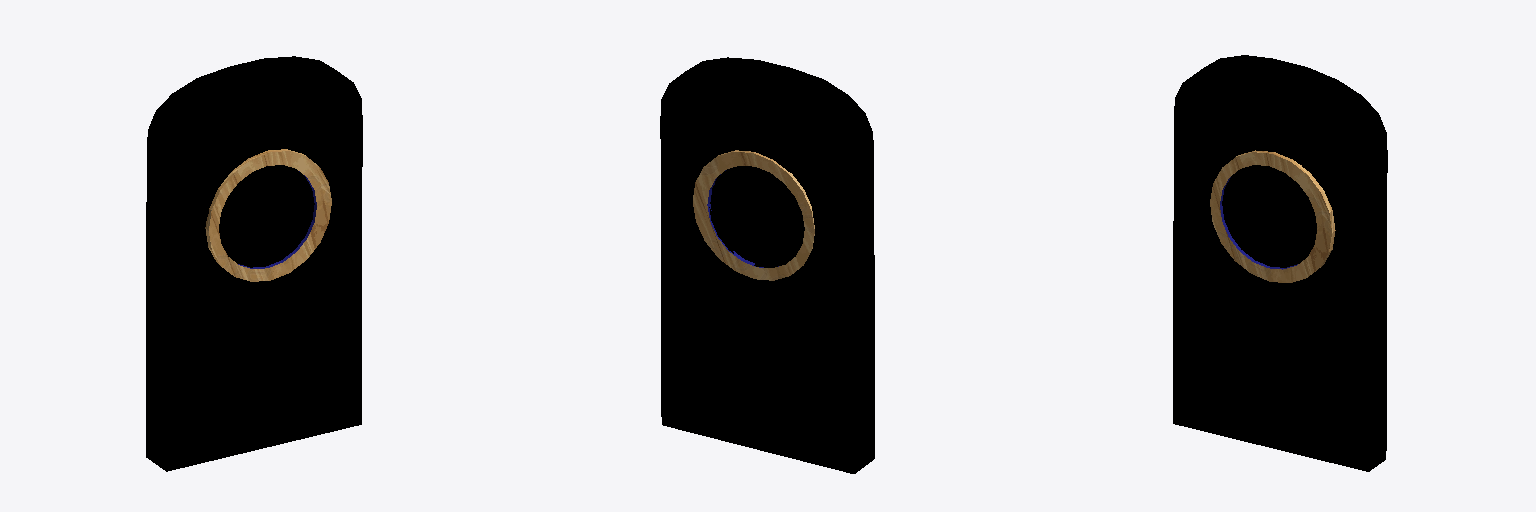
The picture shows the model from 3 angles: view 1: azimuth 30°, elevation 25°; view 2: azimuth 150°, elevation 25°; view 3: azimuth 330°, elevation 25°; orthographic projection.
Visible parts, largest first — view 1: polySurface254; view 2: polySurface254; view 3: polySurface254.
Boxes of the visible parts, x1,y1,x2,y2 form: polySurface254: [146, 56, 362, 471]; polySurface254: [660, 57, 874, 473]; polySurface254: [1173, 55, 1387, 471].
Size of the model in its own units: 0.1812 by 0.328 by 0.0397.
Materials: 5 (1 with a texture image).